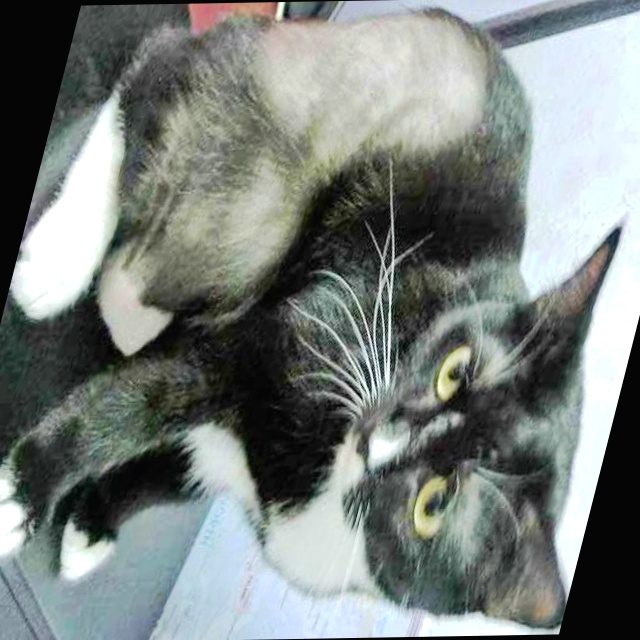hairloss: (211, 16, 509, 141)
